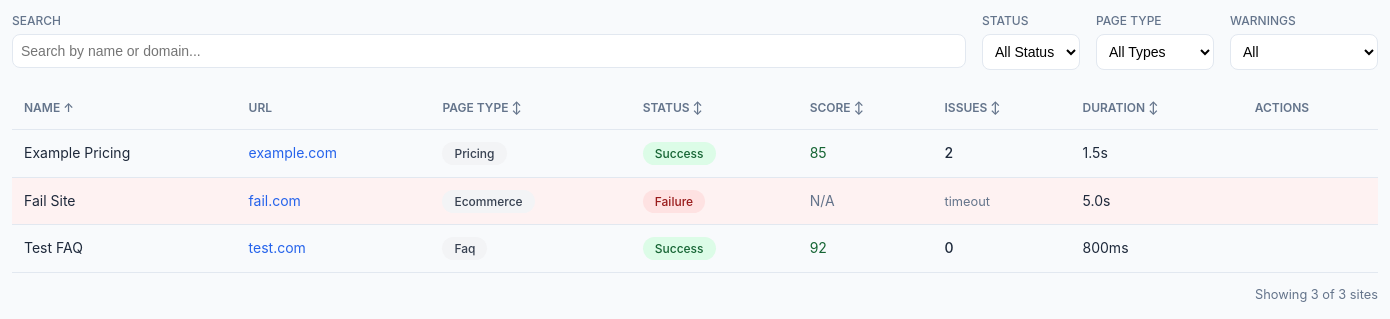
Test: EvaluationSiteTable › filtering › filters by status
Select "Failure" in the dropdown named "Filter by status" at [1031, 52], box [982,34,1080,70]
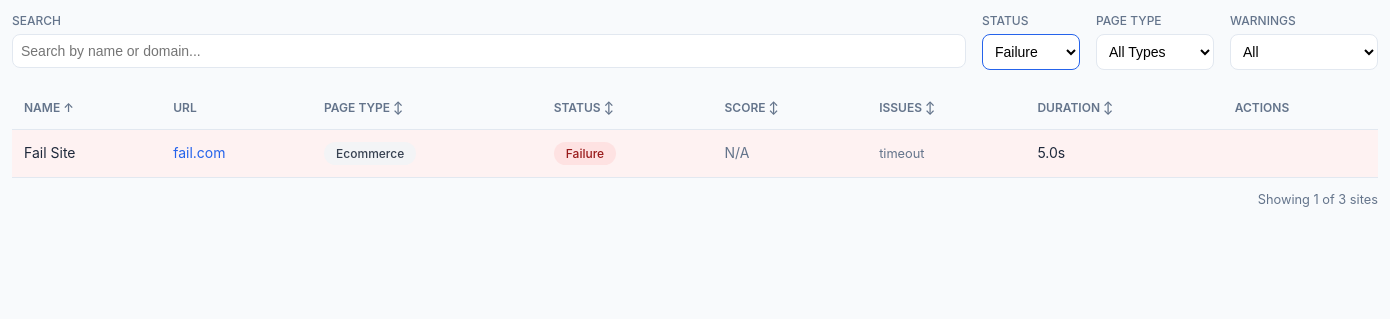
Expected: the text "Fail Site" is shown, [12,130,161,177]
Result: the text "Example Pricing" is gone
Result: the text "Test FAQ" is gone
